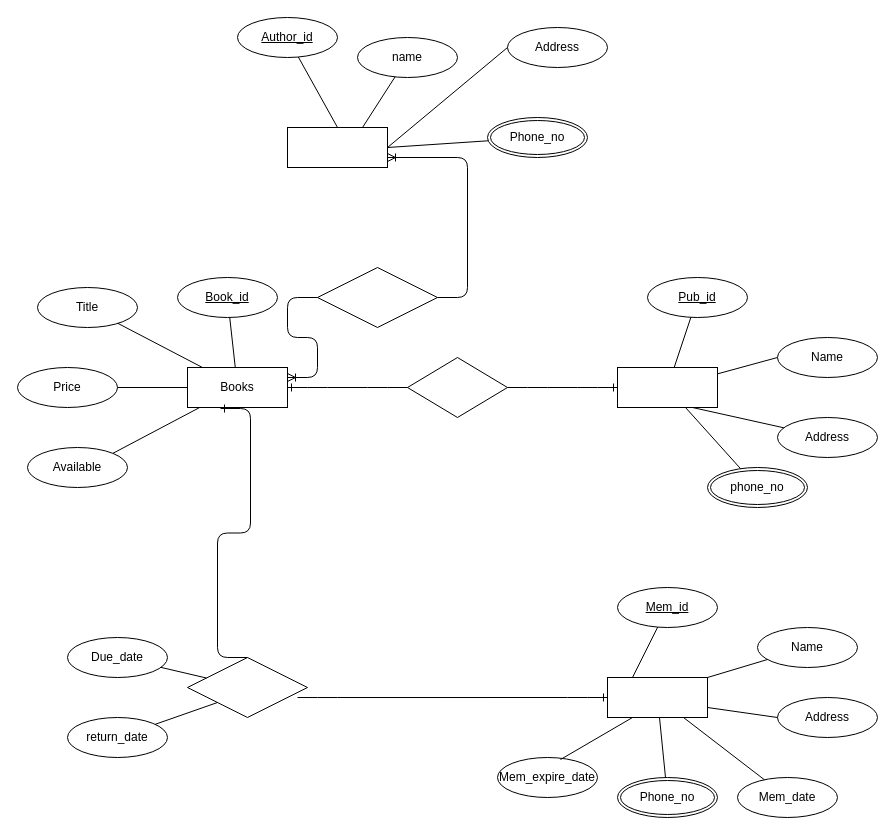
Some shapes in this 895 by 835 pixel diagram are drawn without their labels. The shapes that lost their labels are listed below. From the top down, each one's centre as x and y in pixels, then its label:
point (337, 147): Author
point (377, 297): Written_by
point (457, 387): Published_by
point (667, 387): Publisher
point (247, 687): Borrowed_by
point (657, 697): Member
